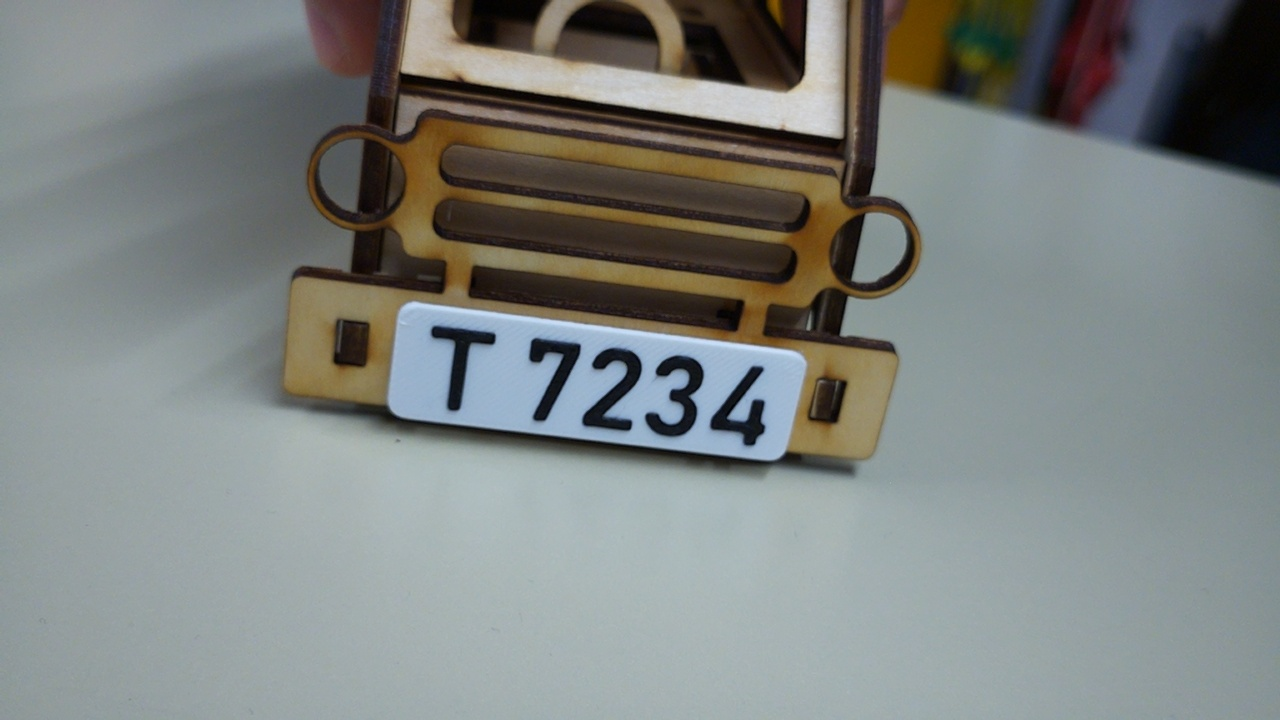license_plate: (385, 297, 813, 466)
